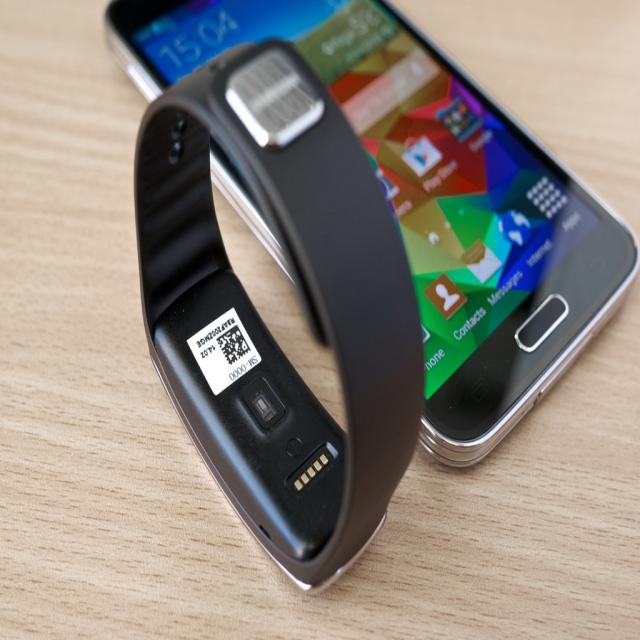Mobile phone: (167, 28, 583, 529)
